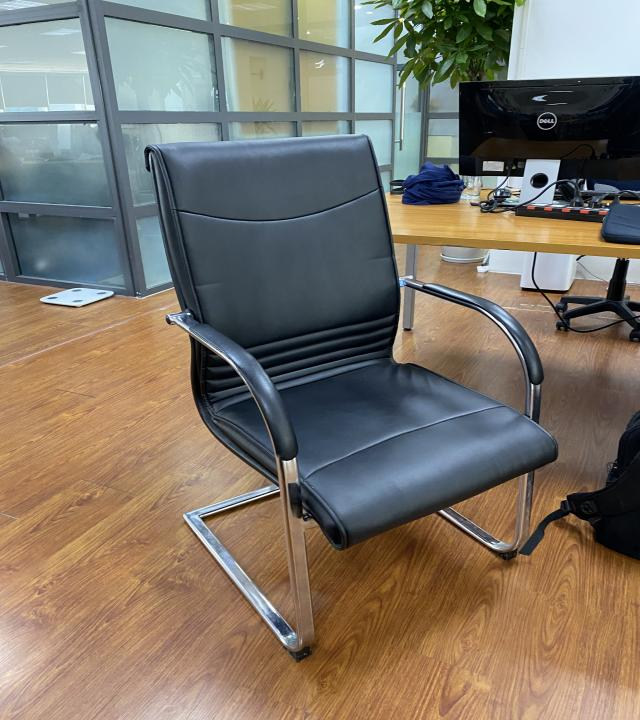SS_03: (139, 129, 561, 663)
